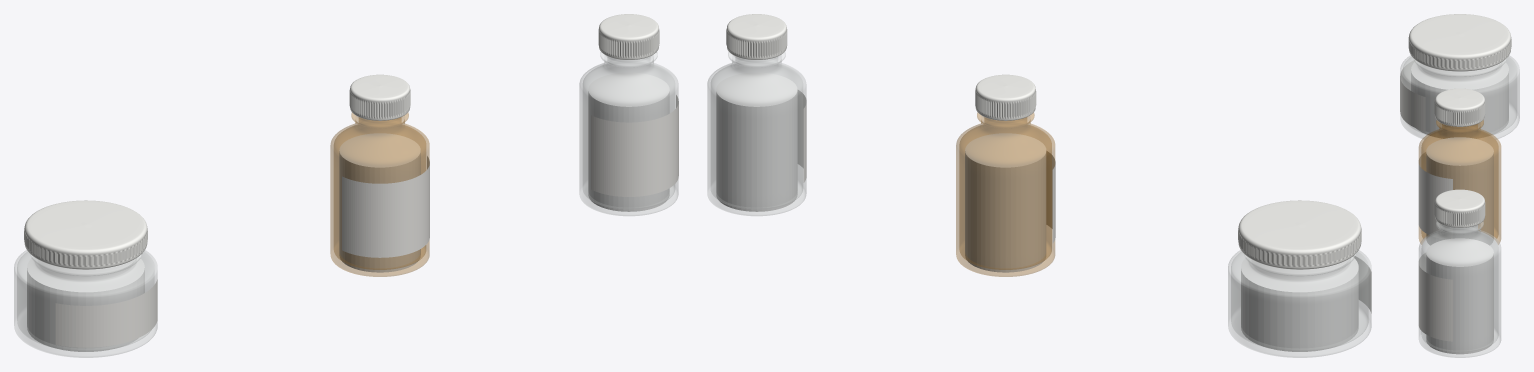
File: ReagentContainers.glb
The picture shows the model from 3 angles, left to right: view 1: azimuth 30°, elevation 25°; view 2: azimuth 150°, elevation 25°; view 3: azimuth 270°, elevation 25°; orthographic projection. The views are drawn at different scales.
Visible parts, largest first — view 1: Jar_Glass, Bottle_Glass.001, Bottle_Glass, Cap.002, LabelSurface, LabelSurface.001, ContentsVolume.002, ContentsVolume.001, ContentsVolume, LabelSurface.002, Cap.001, Cap; view 2: Bottle_Glass, Bottle_Glass.001, Jar_Glass, ContentsVolume, ContentsVolume.001, ContentsVolume.002, Cap.002, Cap.001, Cap, LabelSurface.001, LabelSurface, LabelSurface.002; view 3: Bottle_Glass, ContentsVolume, Bottle_Glass.001, Jar_Glass, Cap.002, ContentsVolume.002, ContentsVolume.001, LabelSurface, Cap.001, Cap, LabelSurface.001, LabelSurface.002.
Boxes of the visible parts, x1,y1,x2,y2 form: Jar_Glass: (14,250,157,357); Bottle_Glass.001: (330,113,429,276); Bottle_Glass: (579,52,678,215); Cap.002: (24,200,147,269); LabelSurface: (591,95,678,196); LabelSurface.001: (342,156,429,257); ContentsVolume.002: (27,257,144,351); ContentsVolume.001: (339,133,420,272); ContentsVolume: (588,72,669,211); LabelSurface.002: (55,279,157,347); Cap.001: (349,74,410,120); Cap: (598,14,659,59); Bottle_Glass: (707,52,806,215); Bottle_Glass.001: (956,112,1054,276); Jar_Glass: (1228,250,1371,357); ContentsVolume: (716,72,797,211); ContentsVolume.001: (965,133,1046,272); ContentsVolume.002: (1241,257,1358,351); Cap.002: (1238,200,1361,269); Cap.001: (975,74,1036,120); Cap: (726,14,787,59); LabelSurface.001: (1046,151,1055,243); LabelSurface: (798,90,806,182); LabelSurface.002: (1353,256,1371,313); Bottle_Glass: (1419,221,1500,357); ContentsVolume: (1426,238,1493,354); Bottle_Glass.001: (1419,120,1500,244); Jar_Glass: (1400,55,1519,139); Cap.002: (1408,14,1511,71); ContentsVolume.002: (1411,61,1508,138); ContentsVolume.001: (1426,137,1493,245); LabelSurface: (1418,253,1452,341); Cap.001: (1434,88,1485,126); Cap: (1434,189,1485,227); LabelSurface.001: (1418,152,1452,239); LabelSurface.002: (1400,60,1425,131).
Bounding box in the file's own units: 0.573 × 0.1445 × 0.1101.
